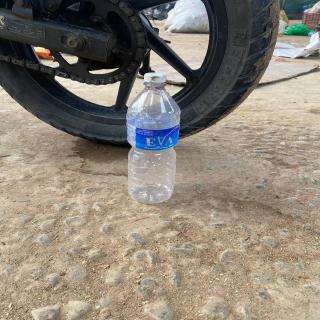Plastic-bottle: (124, 71, 184, 207)
